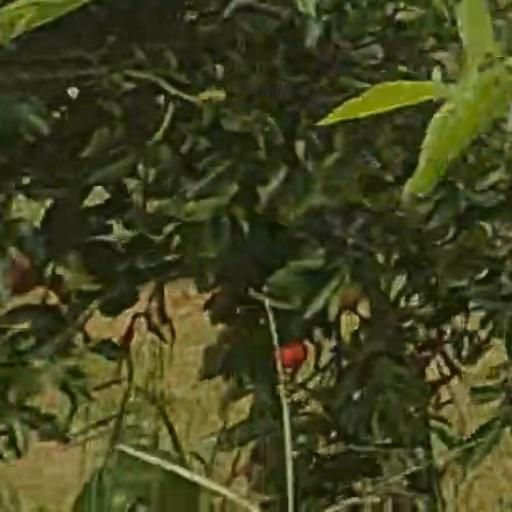acerola: (278, 345, 304, 367)
